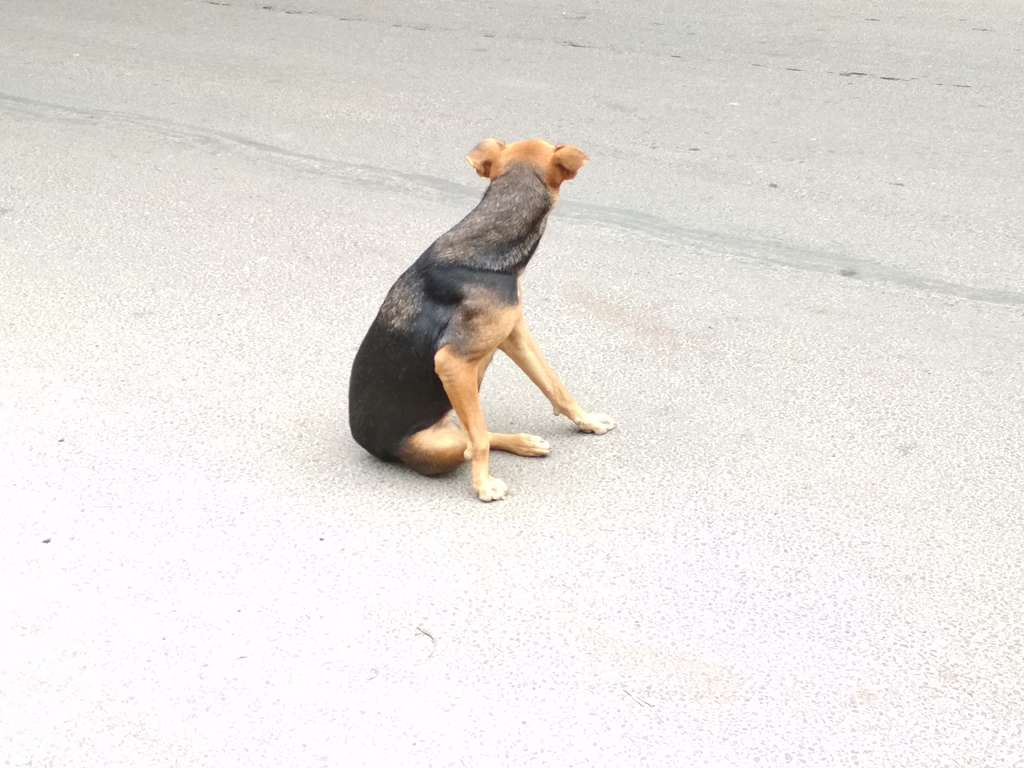dog: (350, 139, 619, 502)
